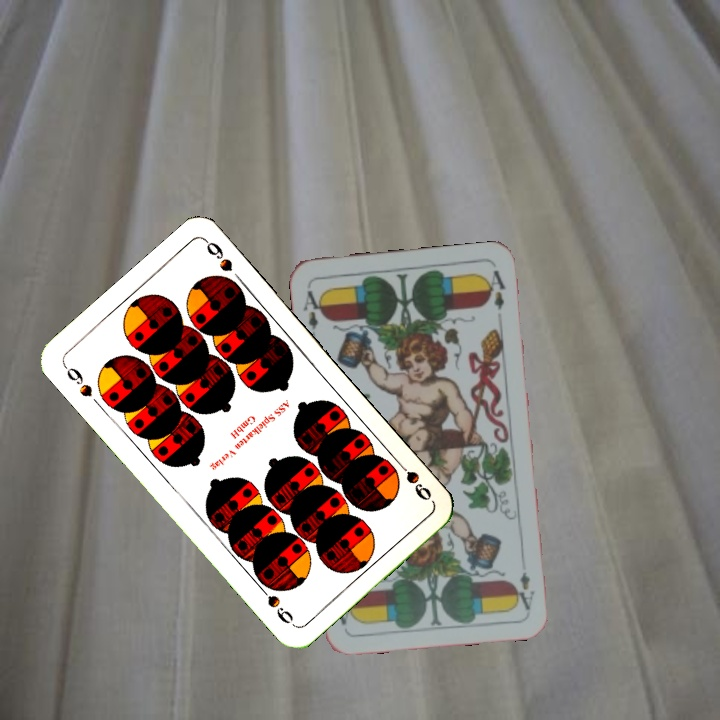EA: (298, 286, 326, 342), (510, 568, 537, 613)
S9: (391, 455, 434, 504), (59, 361, 95, 400)
